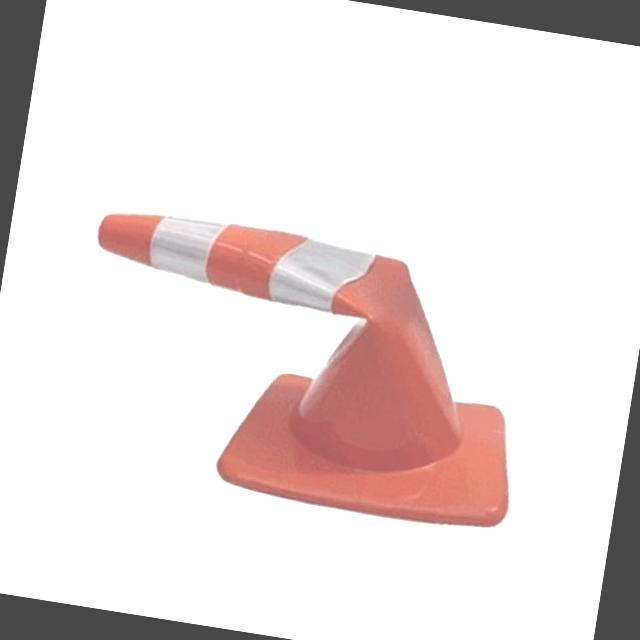cone: (25, 159, 559, 530)
